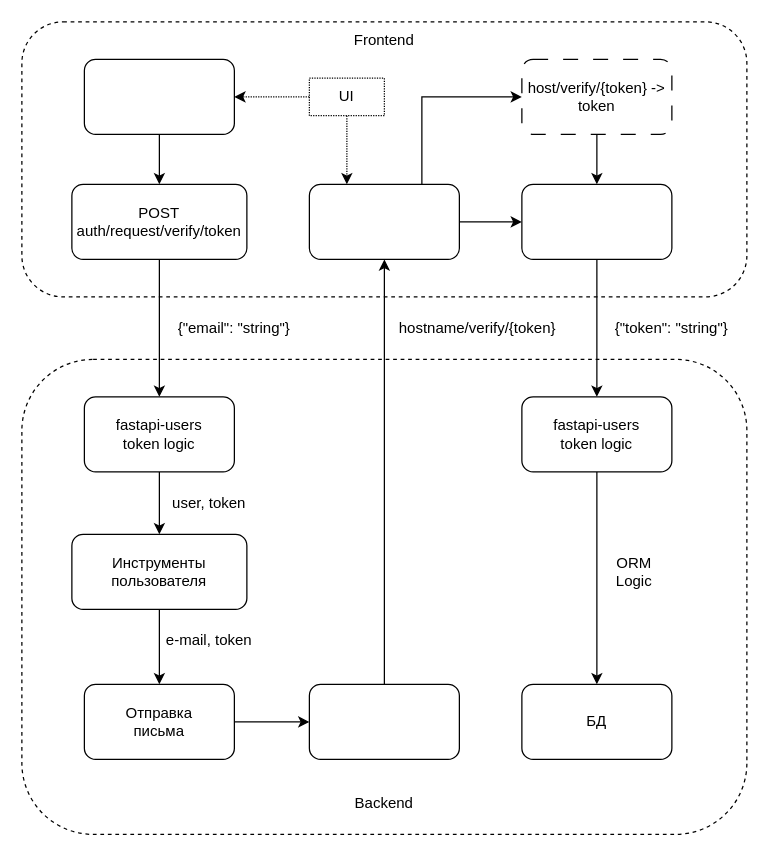
This 769x856 diagram has some shape labels left out. The centre of each missing label's shape, as x and y in pixels:
"POST auth/verify" goes at pixel 596 221.
"Запрос подтверждения" goes at pixel 158 96.
"Переход по ссылке" goes at pixel 383 221.
"Почтовый сервер" goes at pixel 383 721.
